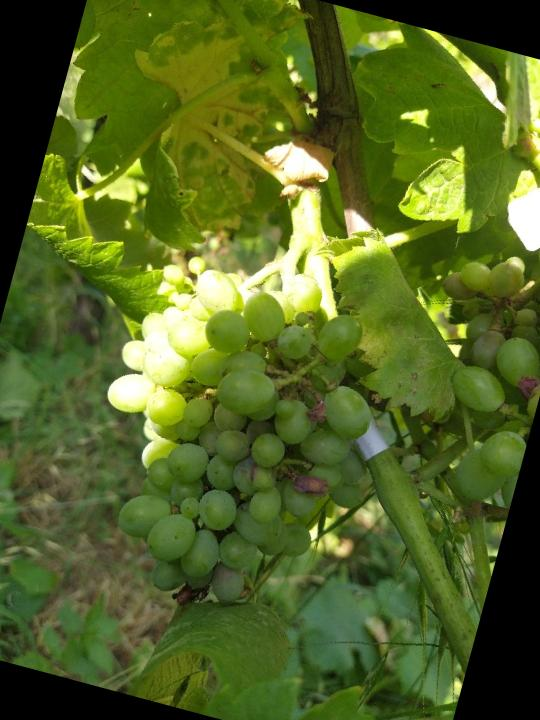grape: (58, 231, 405, 633)
